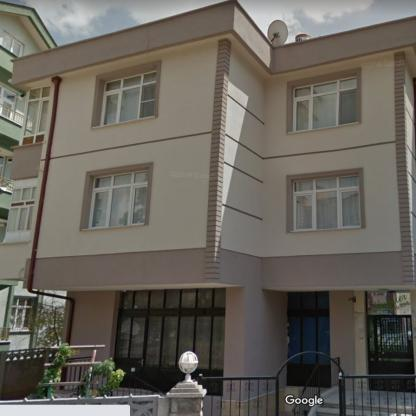door: (368, 316, 413, 390), (115, 313, 147, 388)
window: (121, 288, 226, 370), (294, 176, 362, 230), (89, 170, 149, 227), (295, 77, 356, 130), (100, 71, 156, 124), (289, 292, 329, 364), (21, 86, 50, 144), (6, 186, 38, 231), (10, 298, 36, 331), (1, 32, 24, 57), (1, 86, 16, 120)
